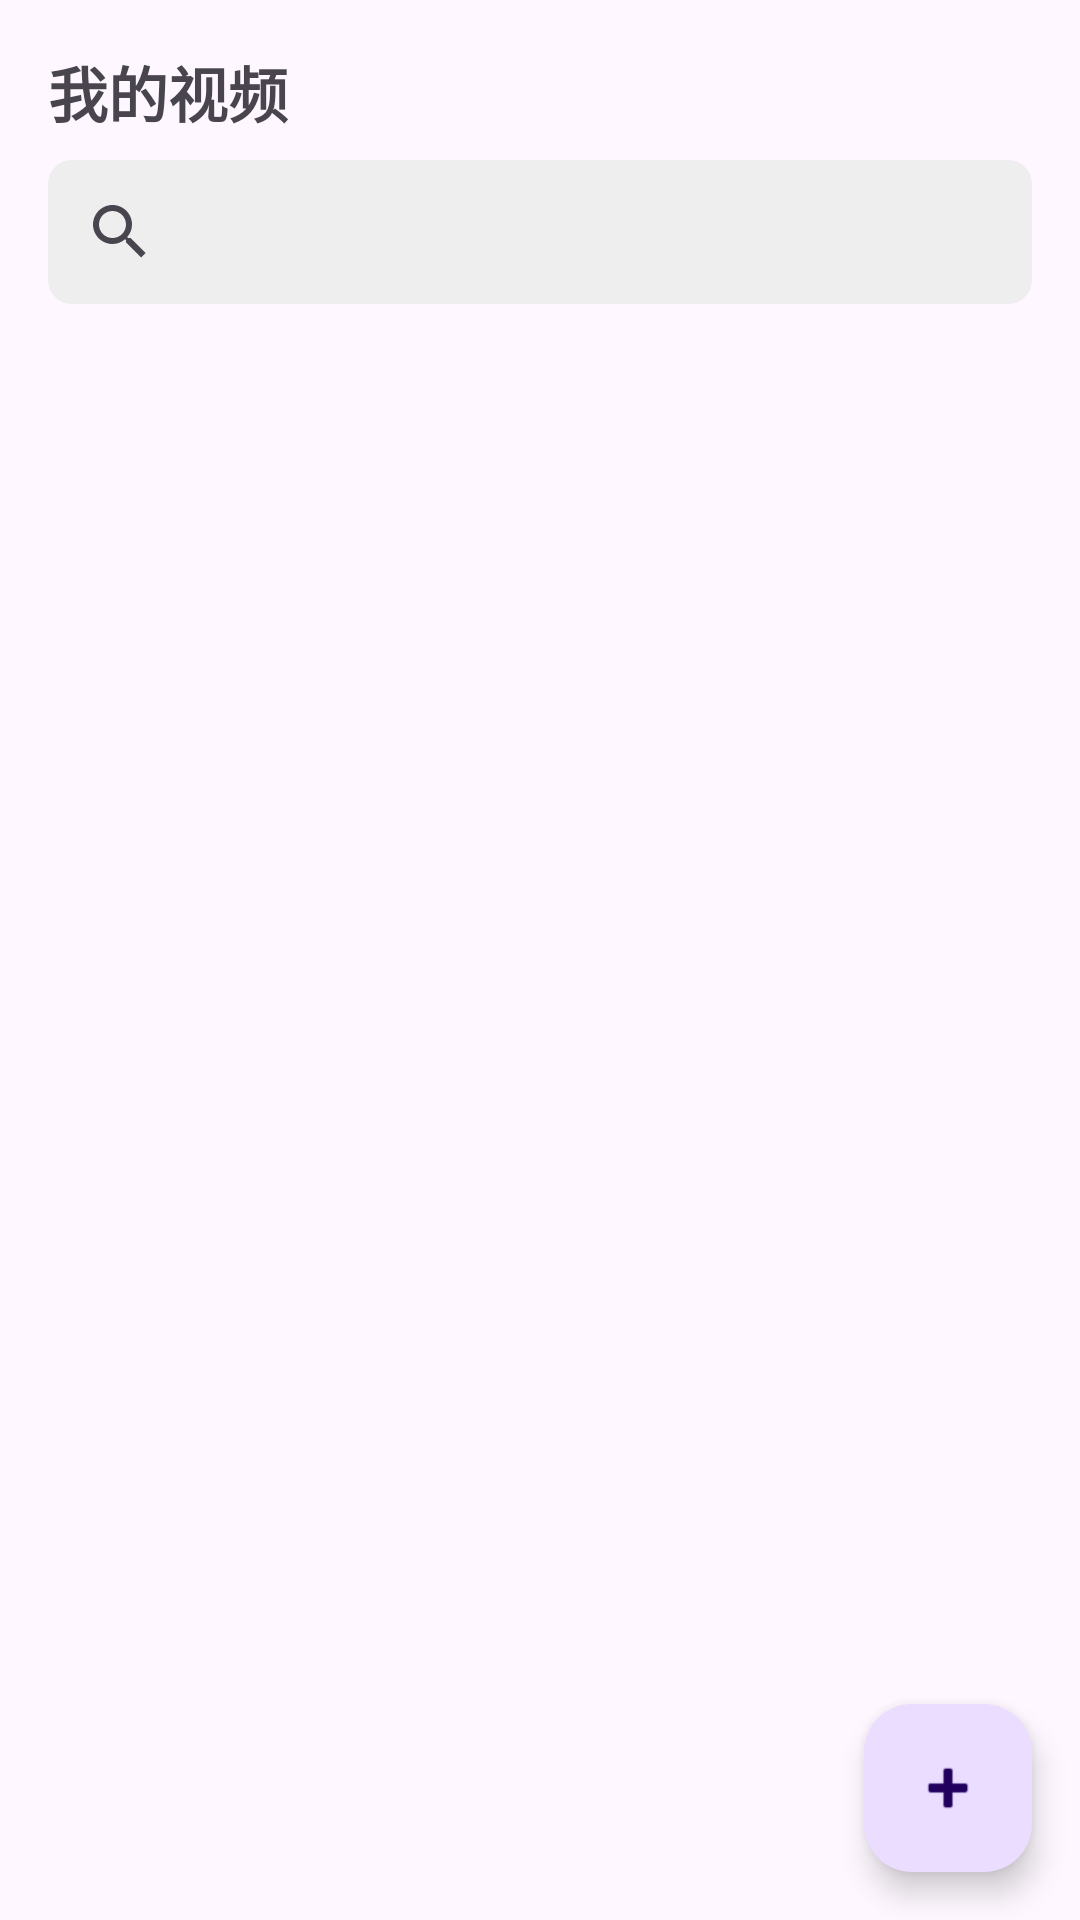

Icons on this 1080px x 1920px Android screen, each with its box as (x1, y1, x2, y2):
添加视频: (864, 1704, 1032, 1872)
